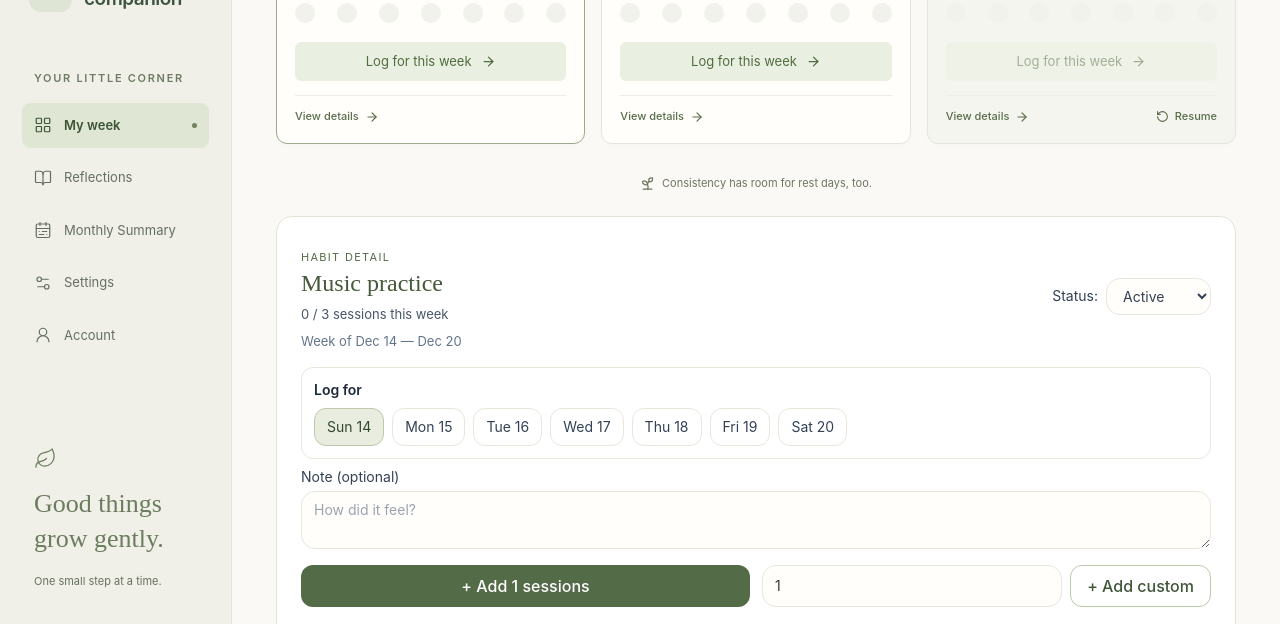
resets the detail log date when moving to another week
The width and height of the screenshot is (1280, 624).
(page scrolled)
What coordinates should you click on to do the following:
click the button with aria-label "Select log date 2025-12-17"
I would click on:
 (587, 427)
Its box is [550,408,624,446].
(page scrolled)
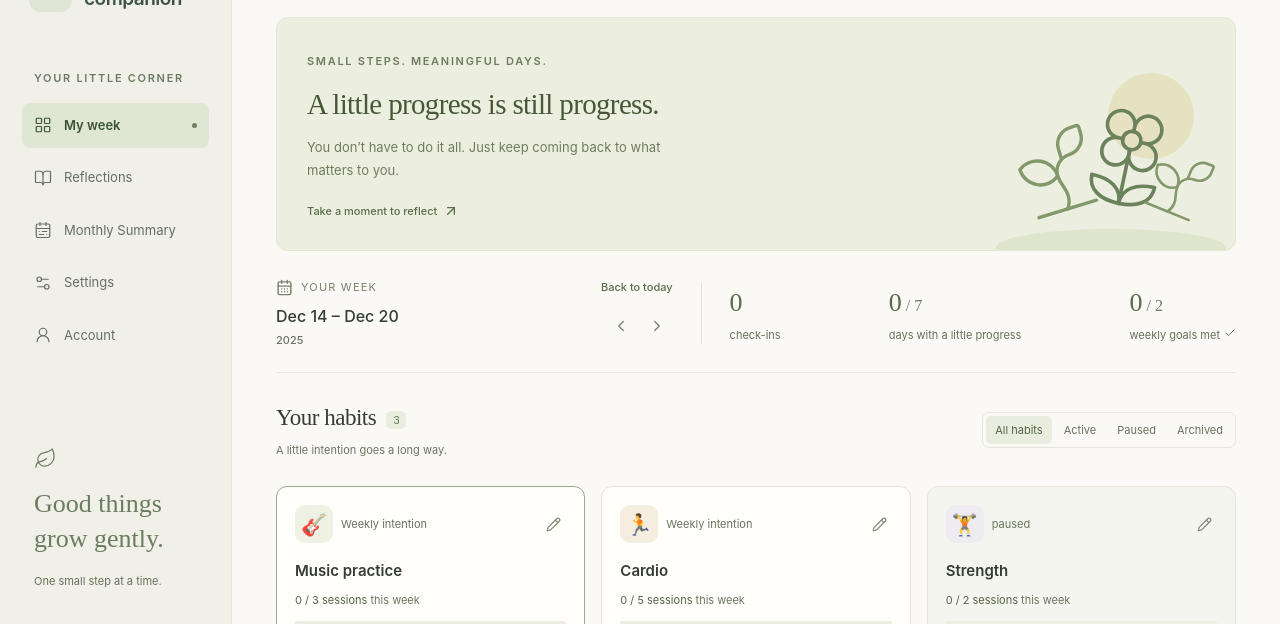
What coordinates should you click on to do the following:
click the button named "Previous week"
I would click on:
 (621, 326)
Its box is [605,310,637,342].
(page scrolled)
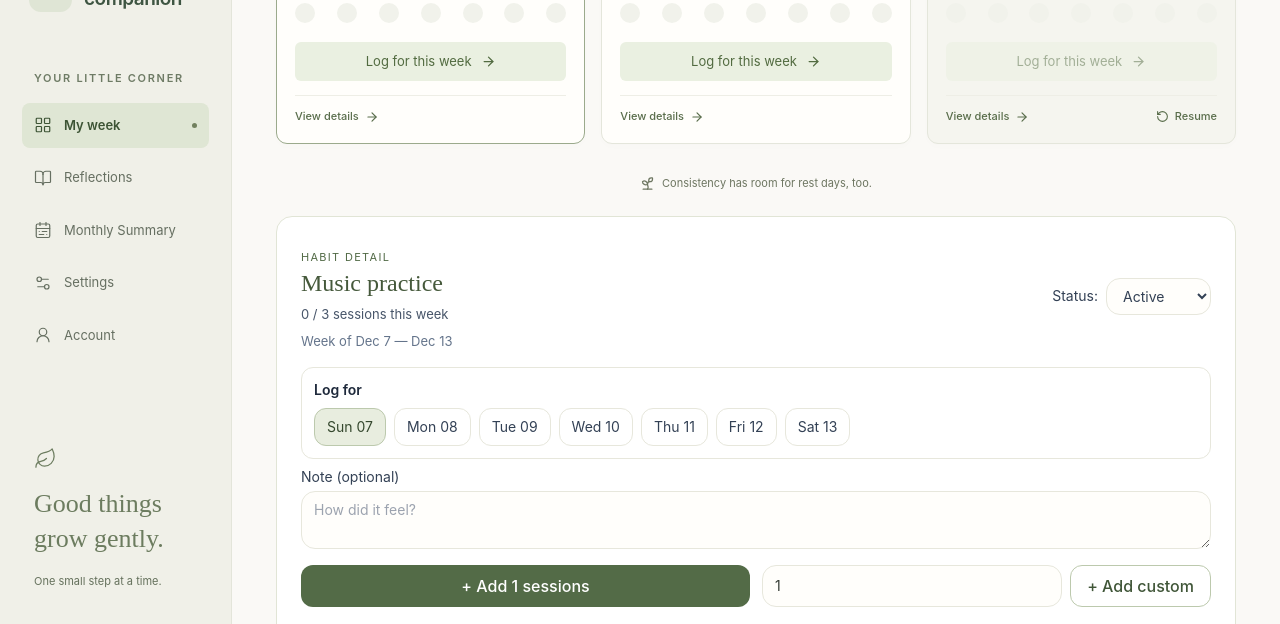
What coordinates should you click on to do the following:
click the button "+ Add 1 sessions"
I would click on:
 (526, 586)
Its box is [301,565,750,607].
(page scrolled)
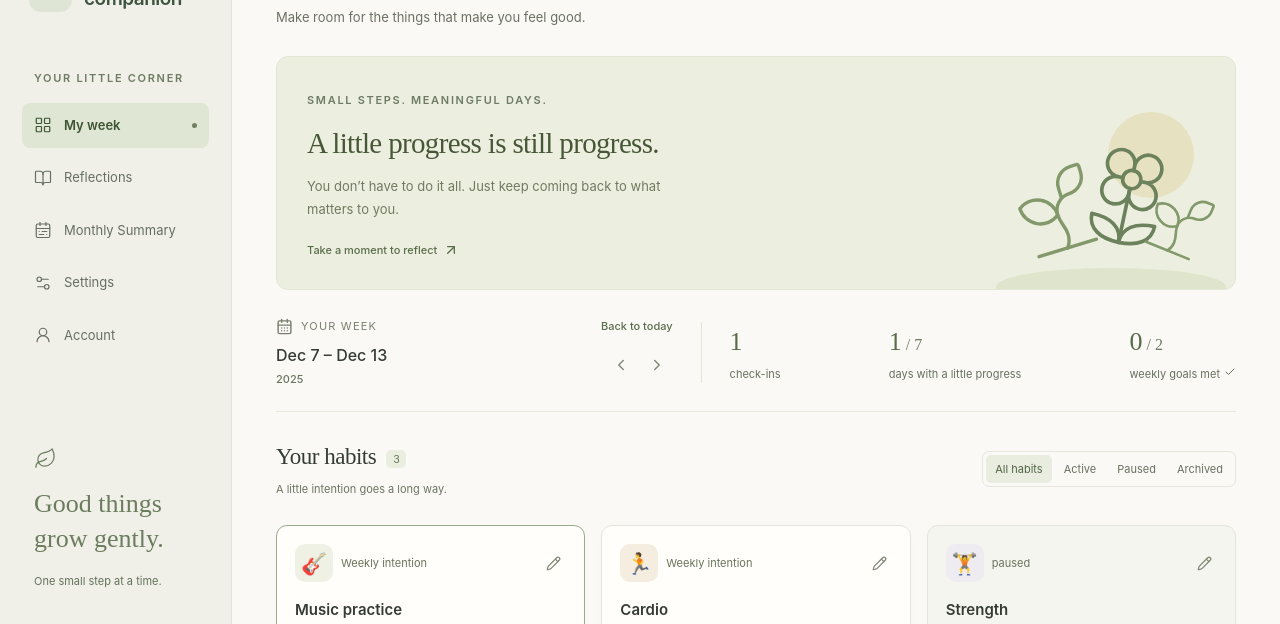
Expected: the button "sessions today" is not shown
What coordinates should you click on to do the following:
click the button "Back to today"
I would click on:
 (637, 326)
Its box is [601,318,673,335].
(page scrolled)
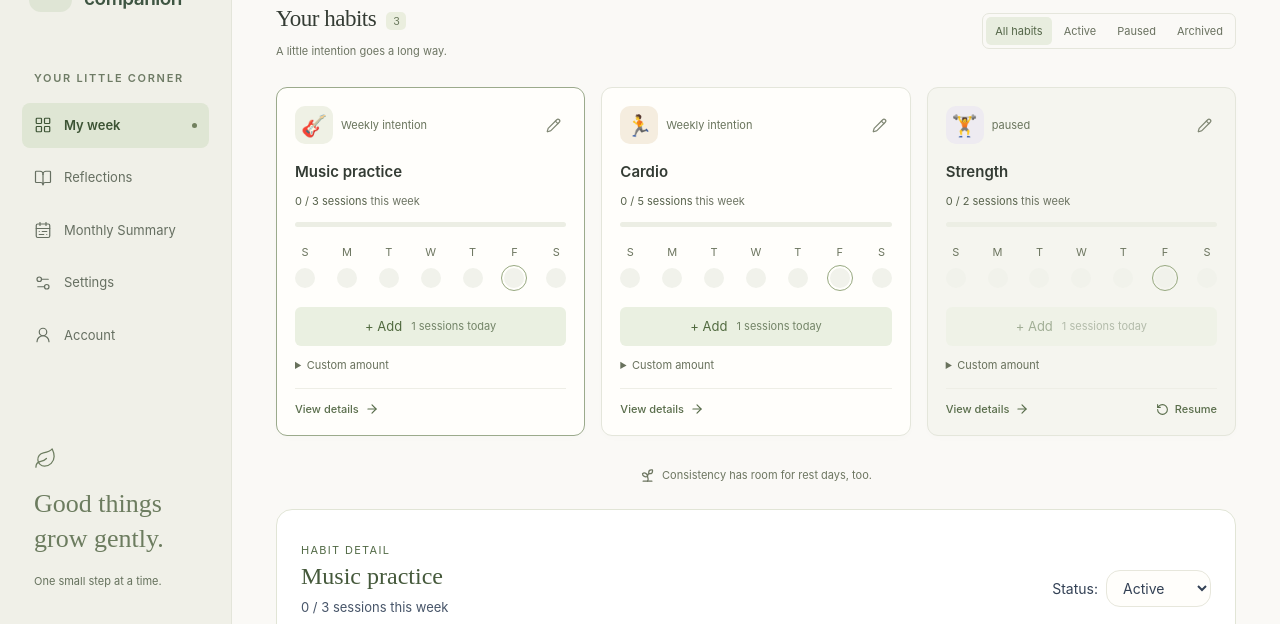
Expected: the 1st button "+ Add 1 sessions today" is shown, [295,307,566,346]
